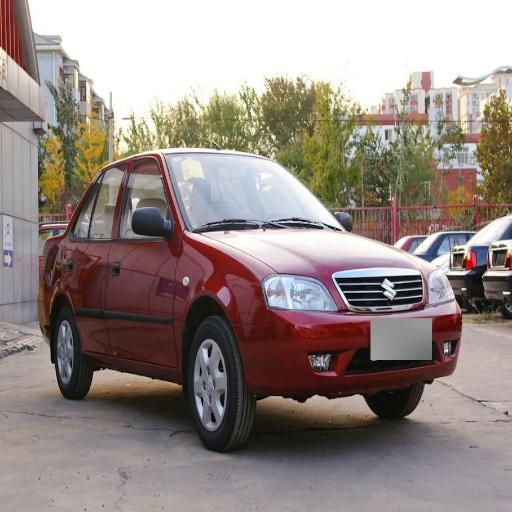front_bumper: (241, 276, 459, 400)
front_right_door: (105, 155, 176, 364)
front_right_light: (263, 272, 345, 313)
